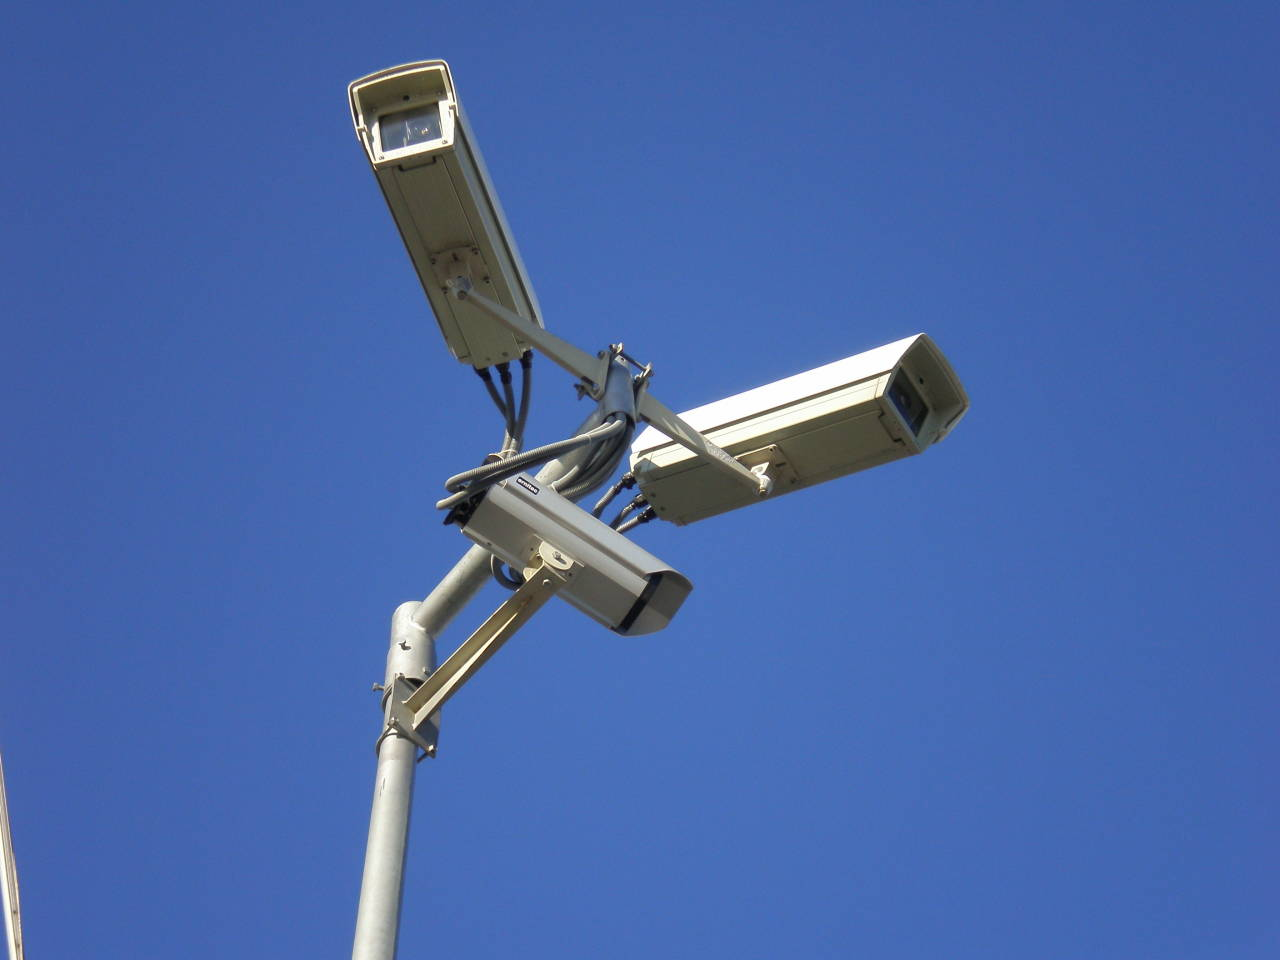CC Camera: (616, 327, 981, 531), (340, 50, 552, 372), (441, 447, 709, 647)
